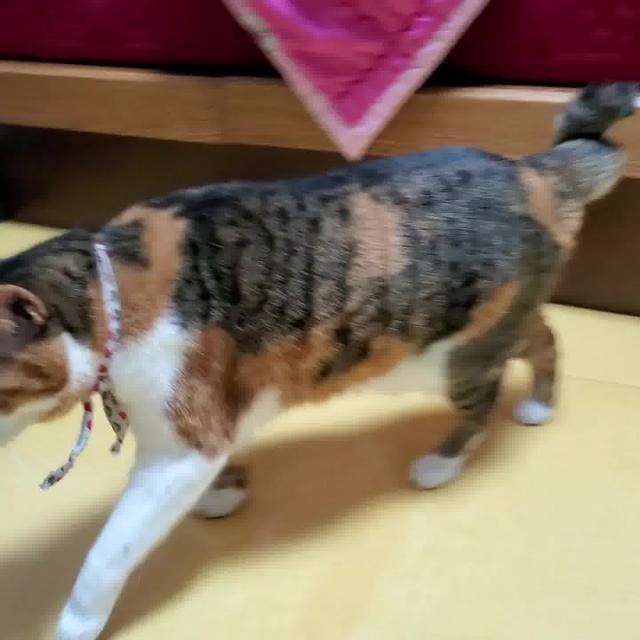cat: (0, 77, 640, 640)
